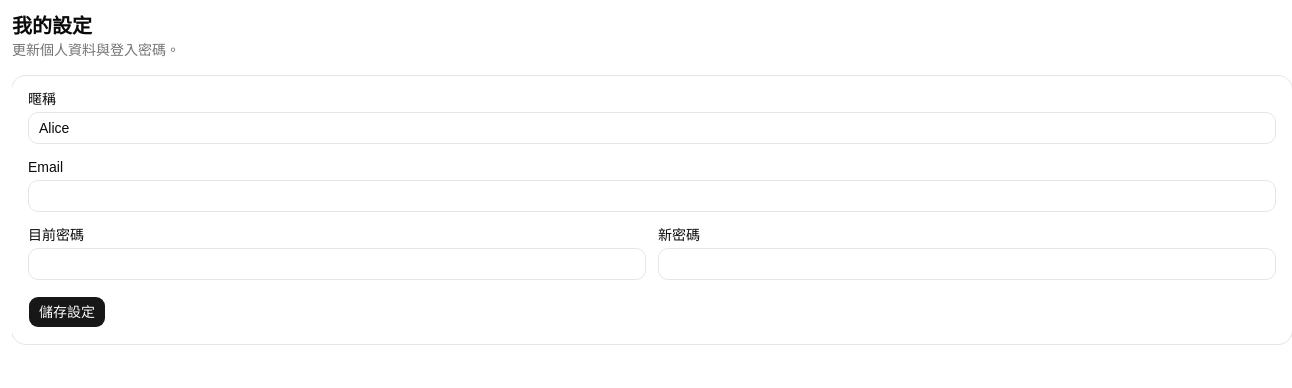
it: SettingsPage › requires current password when changing password
Type "secret1" into the password field labelled "新密碼". click: (967, 264)
box: [658,248,1276,280]
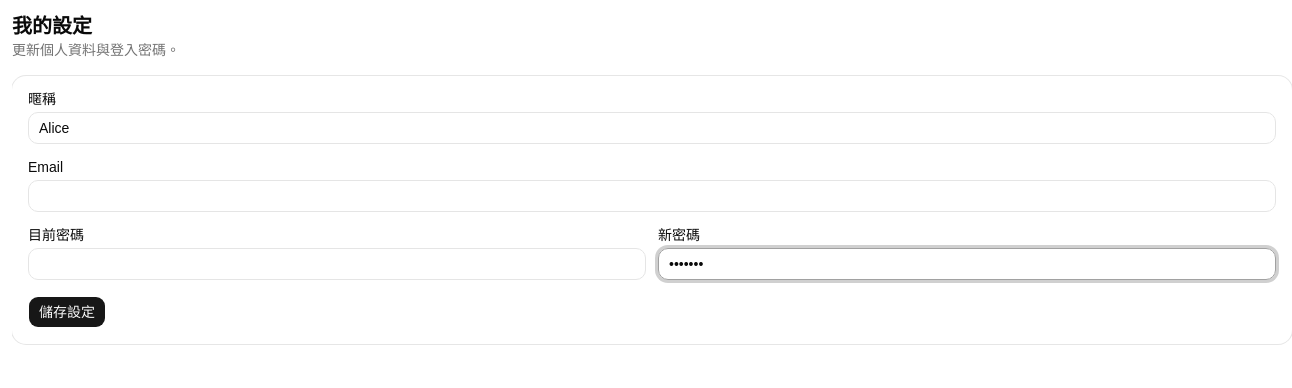
Click the button "儲存設定". click: click(67, 312)
box: [28,296,106,328]
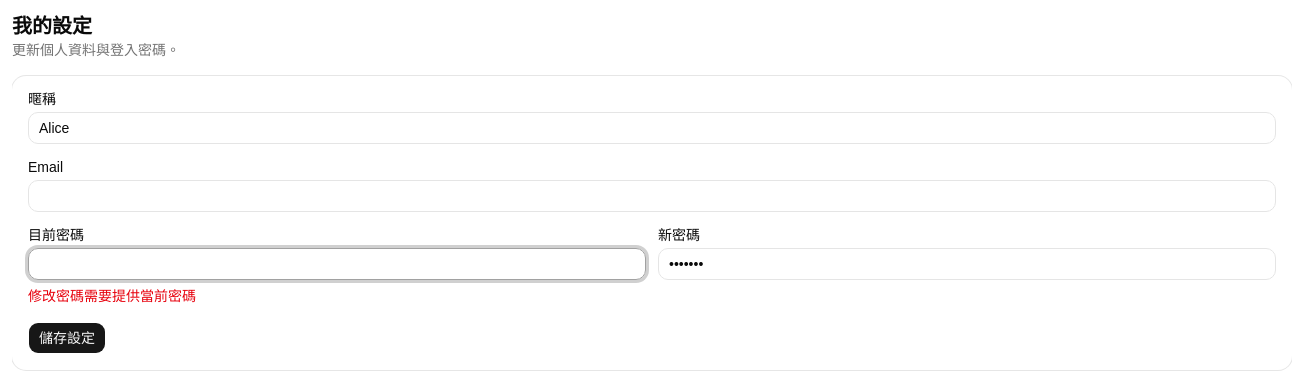
Expected: the text "修改密碼需要提供當前密碼" is shown, [28,288,196,304]
